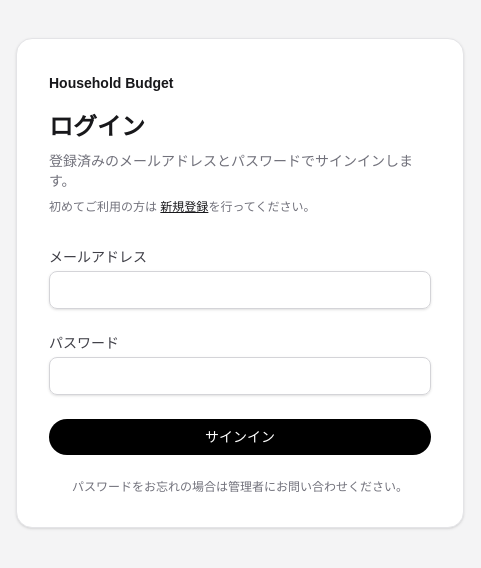
LoginPage › shows error message when credentials are invalid
Type "john@example.com" into the field labelled "メールアドレス". click: [240, 290]
box: [49,271,431,309]
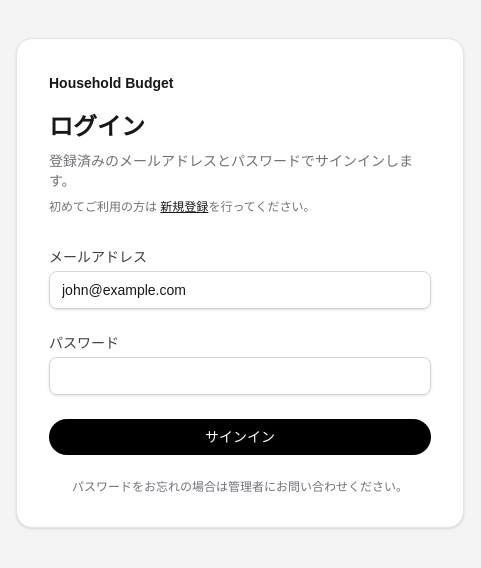
Type "wrong" into the password field labelled "パスワード". click: [240, 376]
box: [49,357,431,395]
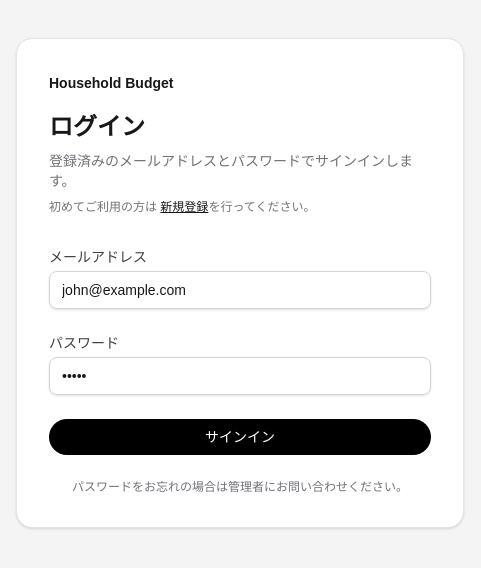
Submit the form "サインイン", box [49,247,431,455]
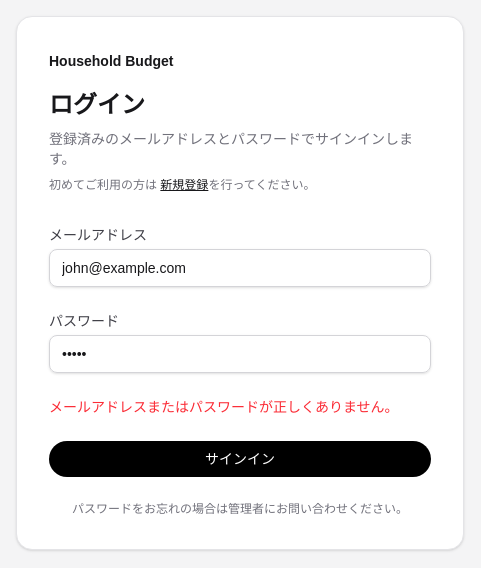
Expected: the text "メールアドレスまたはパスワードが正しくありません。" is shown, [49,397,431,417]
